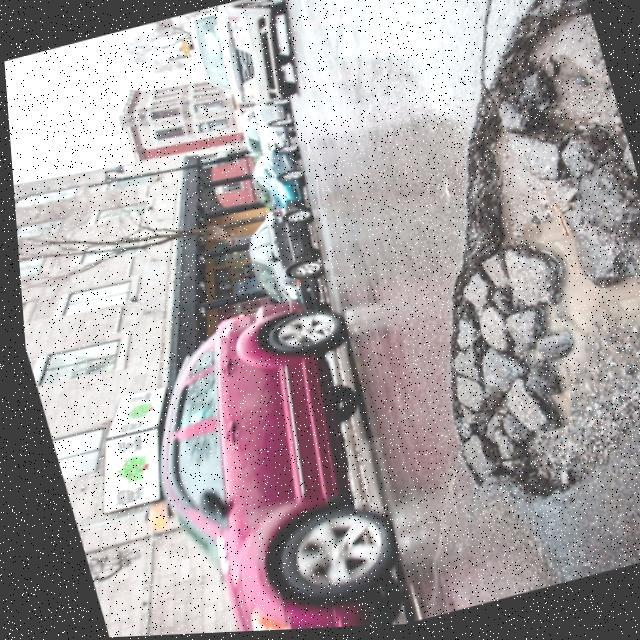pothole: (325, 0, 640, 531)
